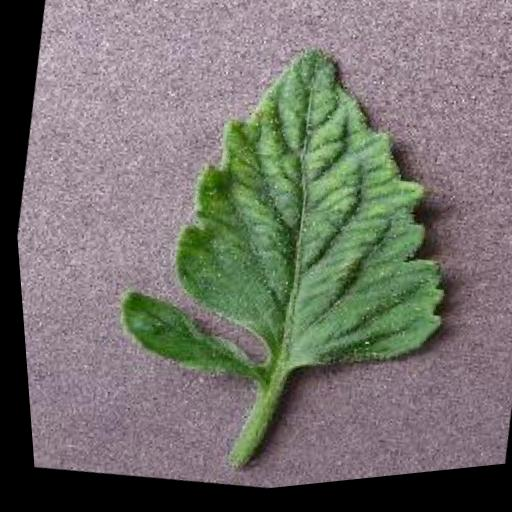Mosaic Virus: (86, 6, 497, 432)
